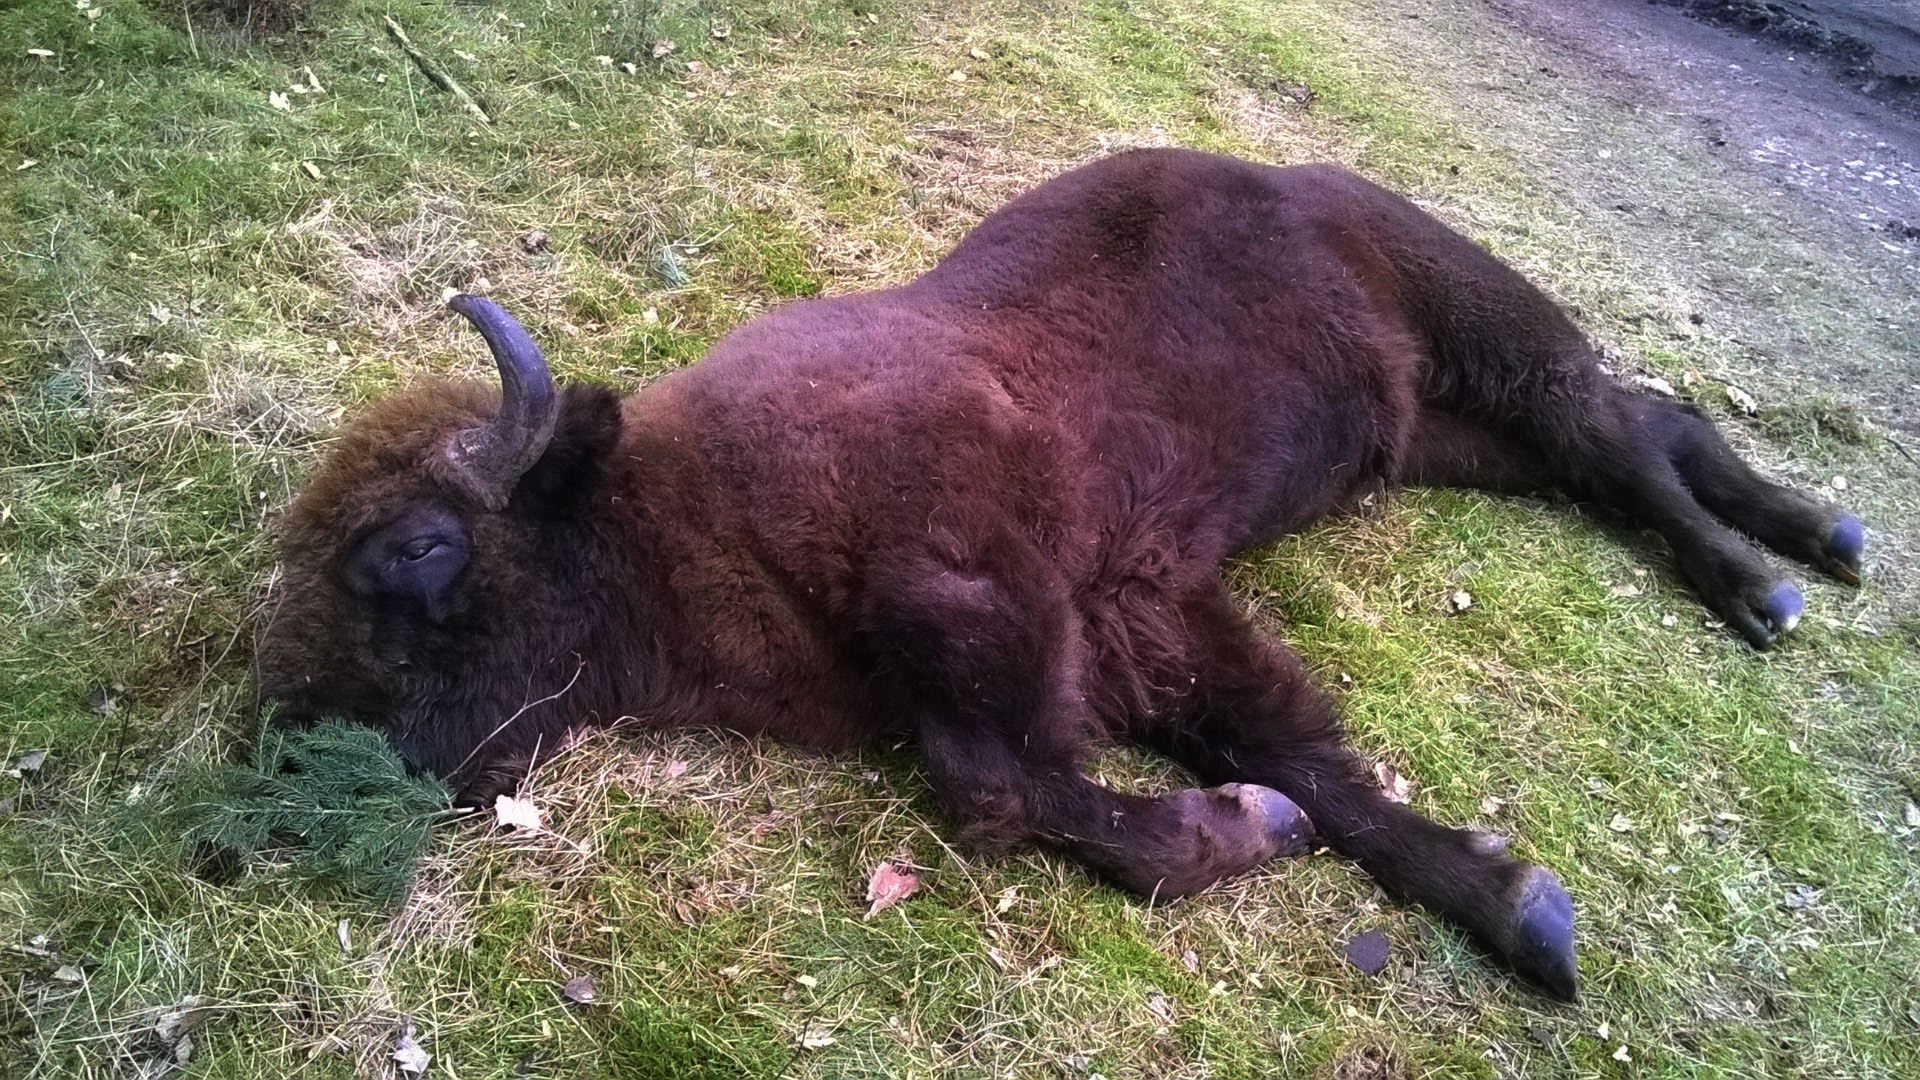zubr: (129, 95, 1915, 1027)
